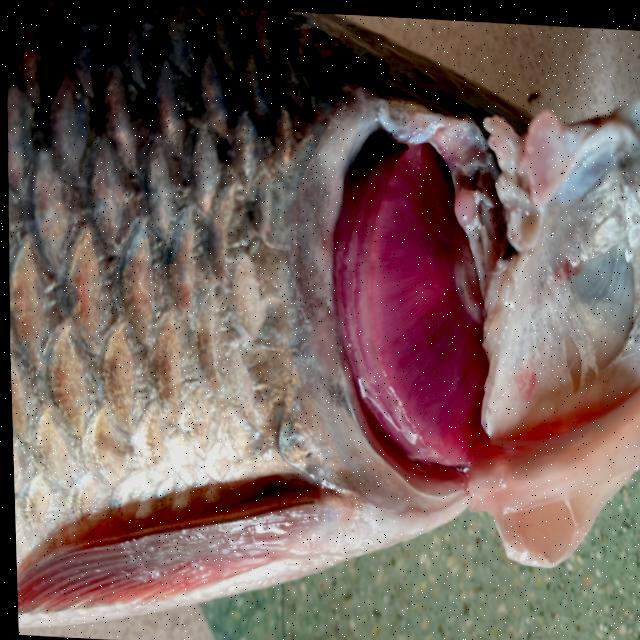Fresh: (301, 72, 532, 536)
